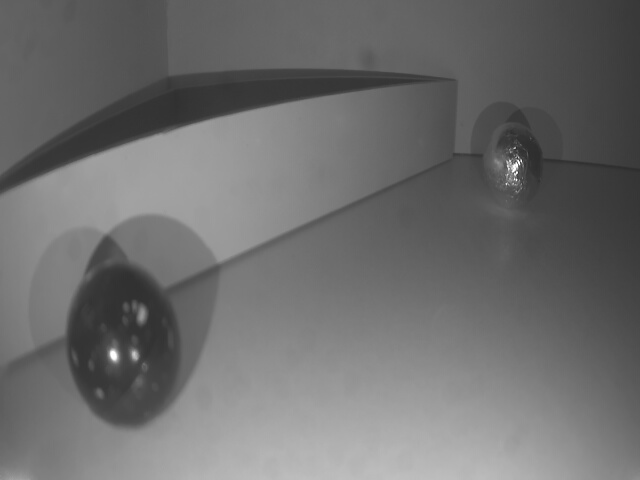Dead: (68, 266, 185, 431)
Live: (484, 123, 545, 212)
Red: (0, 81, 463, 366)
